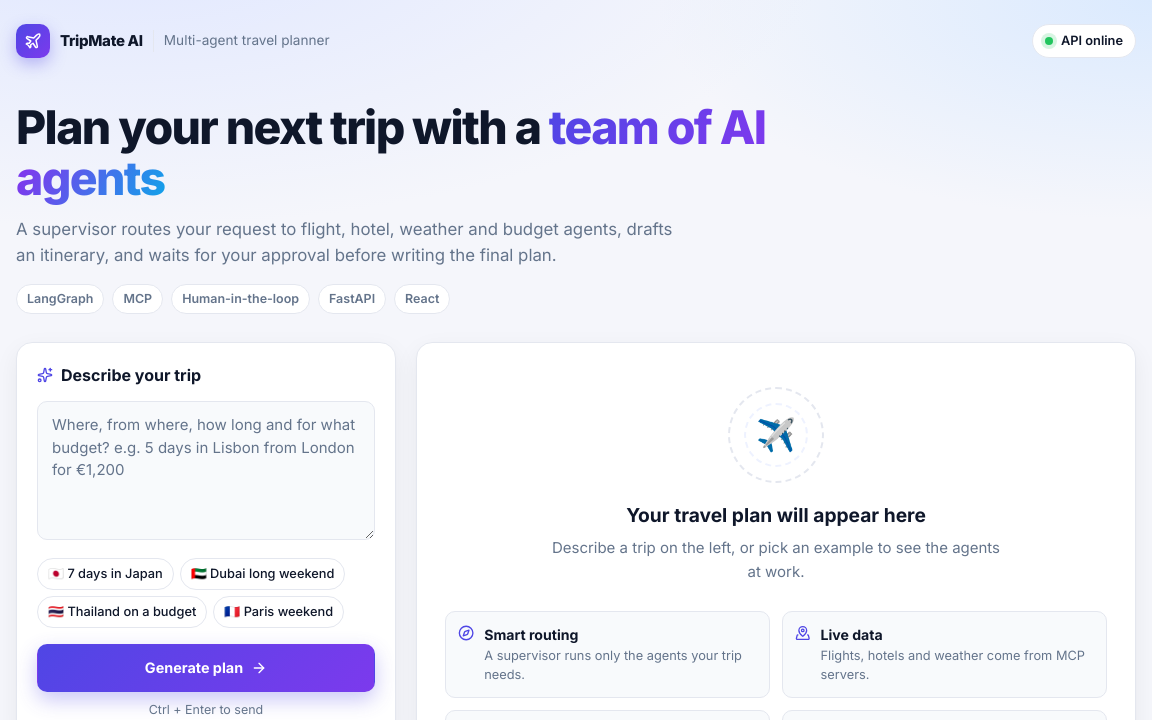
App › streams the draft and shows routing, skipped agents and the review panel
The image size is (1152, 720).
Type "Plan 3 days in Tokyo" into the text box named "Travel request". click: (206, 471)
box: [37,401,375,540]
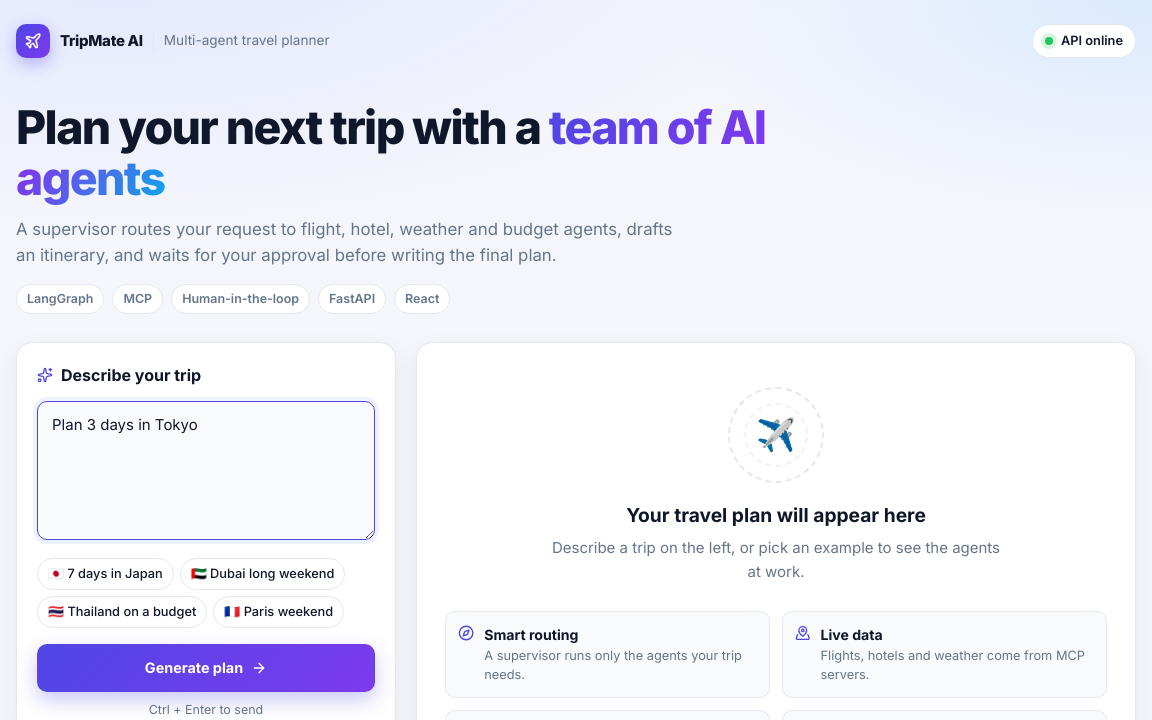
Click the button "Generate plan". click: (206, 668)
box: [37,644,375,692]
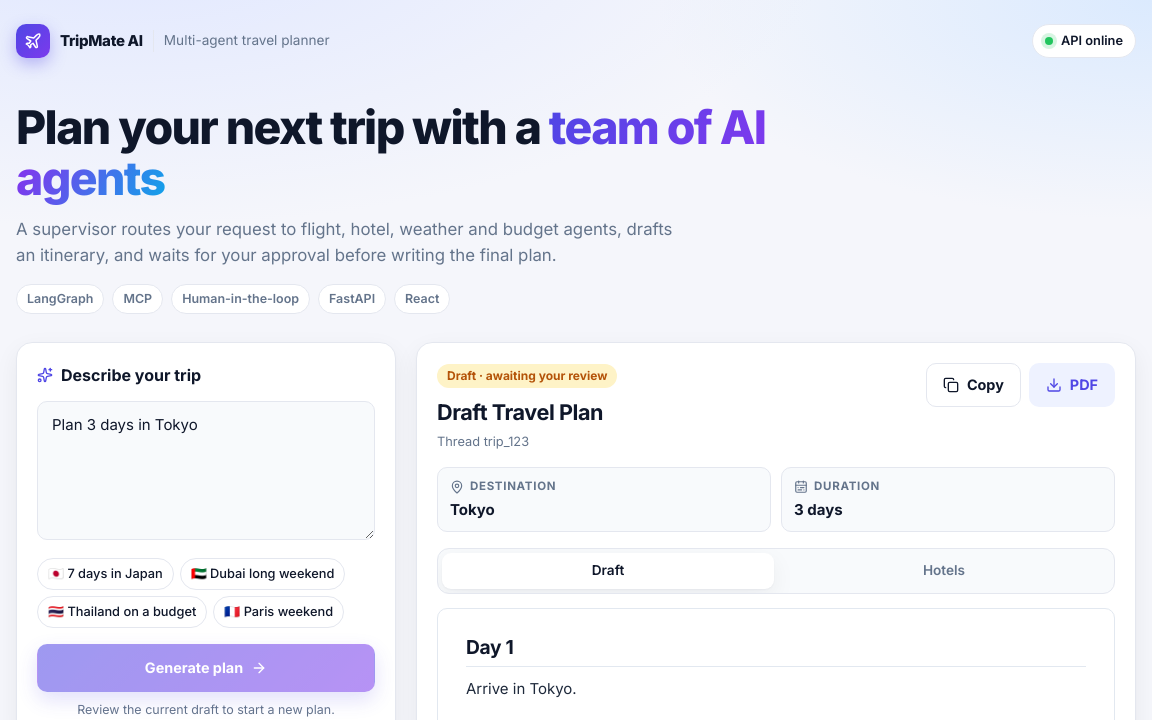
Result: the heading "Draft Travel Plan" is shown at [437,396,617,430]
Result: the heading "Day 1" is shown at [466,634,1086,666]
Result: the text "3 days" is shown at [794,500,843,519]
